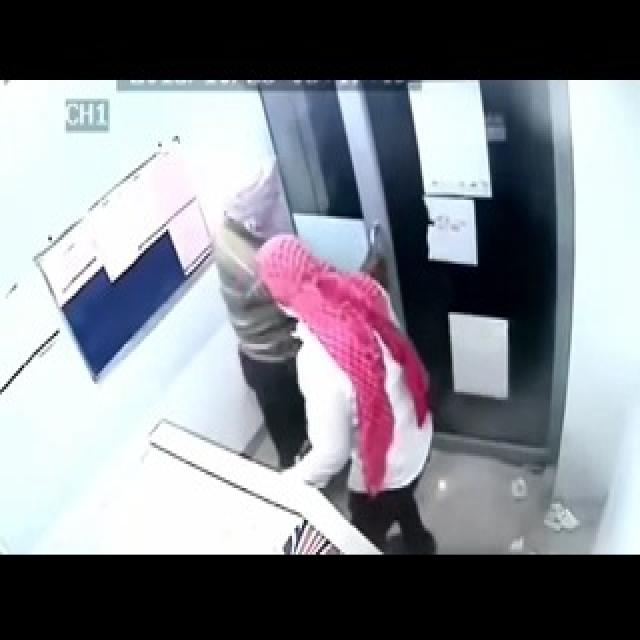thief: (201, 184, 393, 499)
